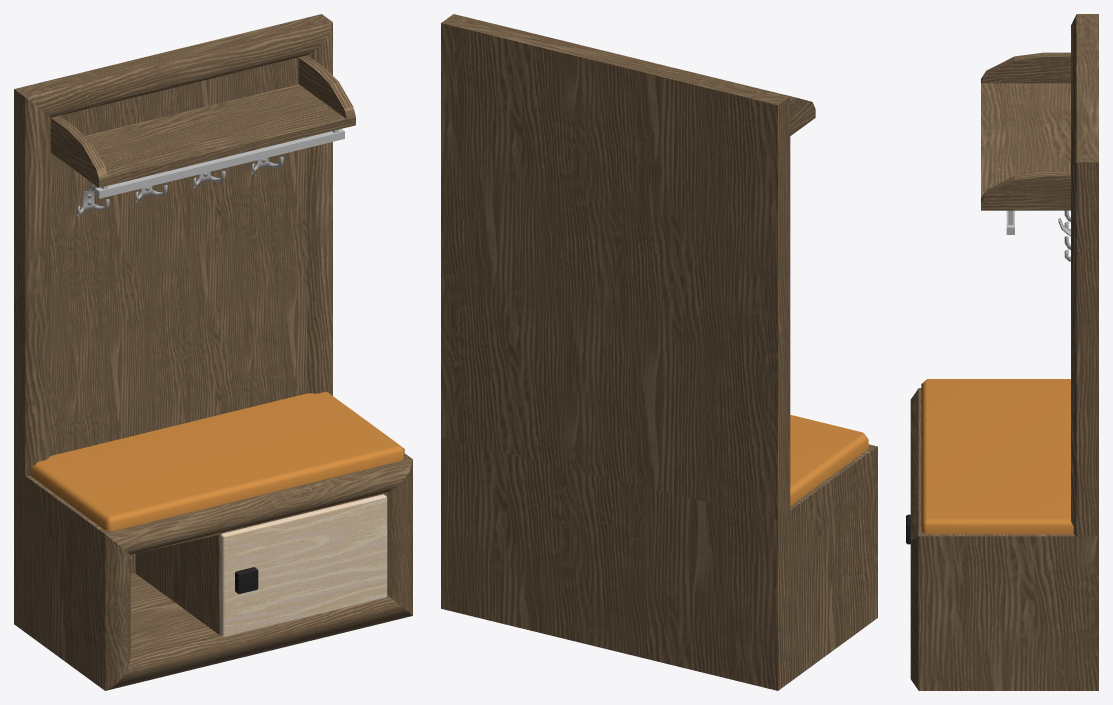
The model's file is cupboard_027.fbx.
The picture shows the model from 3 angles, left to right: view 1: azimuth 30°, elevation 25°; view 2: azimuth 150°, elevation 25°; view 3: azimuth 270°, elevation 25°; orthographic projection. The views are drawn at different scales.
Parts seen in each view (by area): view 1: cupboard_027; view 2: cupboard_027; view 3: cupboard_027.
Boxes of the visible parts, left/top/right/bottom form: cupboard_027: left=14, top=14, right=412, bottom=690; cupboard_027: left=441, top=14, right=877, bottom=690; cupboard_027: left=906, top=14, right=1098, bottom=690.
Size of the model in its own units: 135 by 74.22 by 224.
